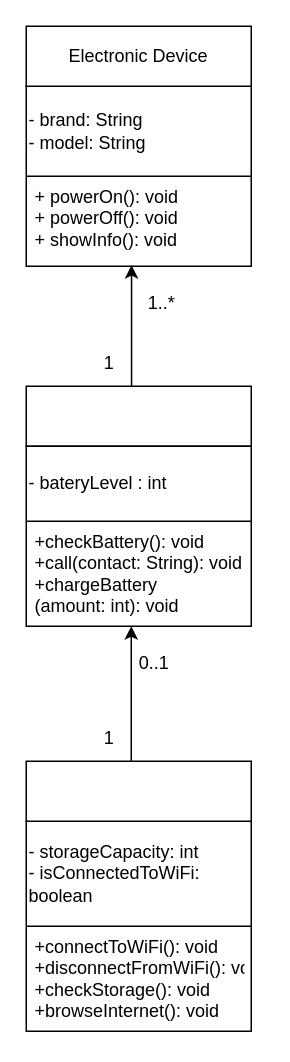
Some shapes in this 290 by 1062 pixel diagram are drawn without their labels. Each missing label, with the centre of its shape:
"Mobile" belongs at (x=138, y=415).
"Smartphone" belongs at (x=138, y=790).
